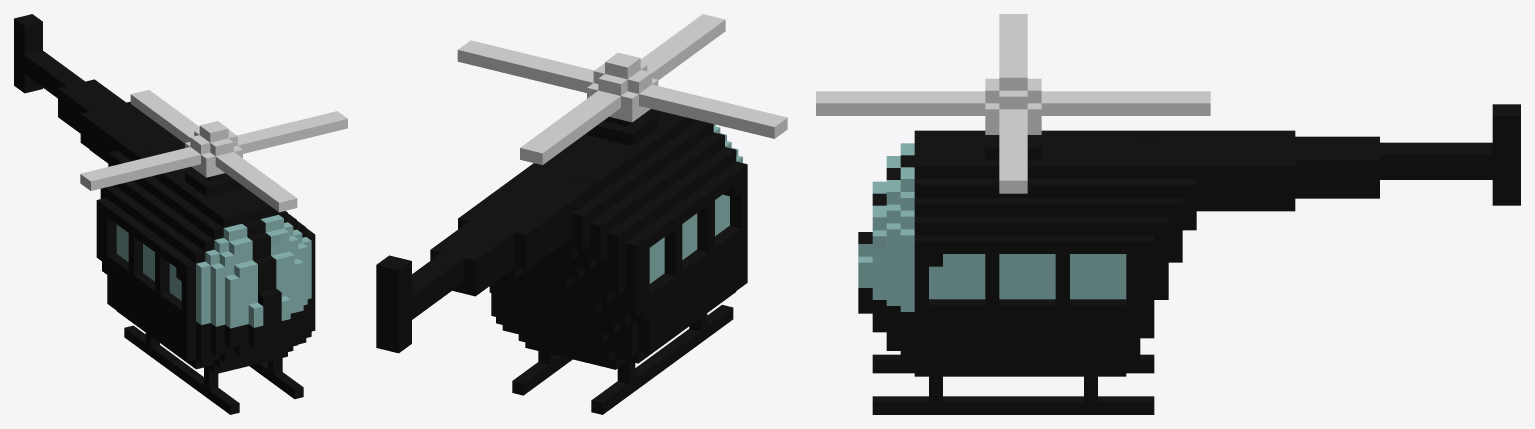
File: heli_colorreadyheli_blade.fbx
The picture shows the model from 3 angles, left to right: view 1: azimuth 30°, elevation 25°; view 2: azimuth 150°, elevation 25°; view 3: azimuth 270°, elevation 25°; orthographic projection. The views are drawn at different scales.
Visible parts, largest first — view 1: pCube1, pCube2; view 2: pCube1, pCube2; view 3: pCube1, pCube2.
Boxes of the visible parts, x1,y1,x2,y2 form: pCube1: [14, 14, 315, 414]; pCube2: [80, 90, 347, 212]; pCube1: [376, 109, 747, 414]; pCube2: [457, 14, 787, 165]; pCube1: [858, 104, 1520, 414]; pCube2: [816, 14, 1210, 193].
Bounding box in the file's own units: 175 × 156 × 312.
